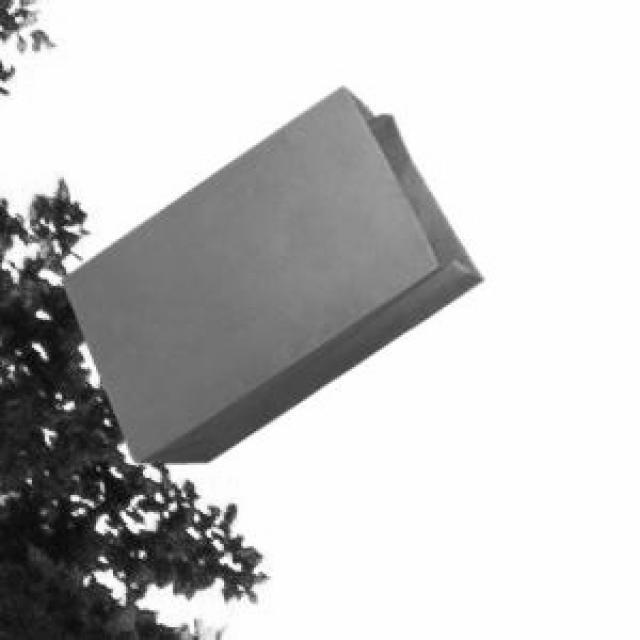paper: (58, 83, 478, 459)
